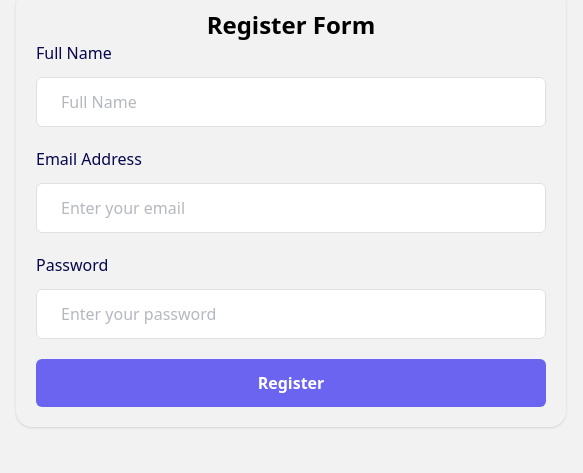
shows an error message for an empty submission
Click the button "Register" at (291,383), box 36,359 -> 546,407
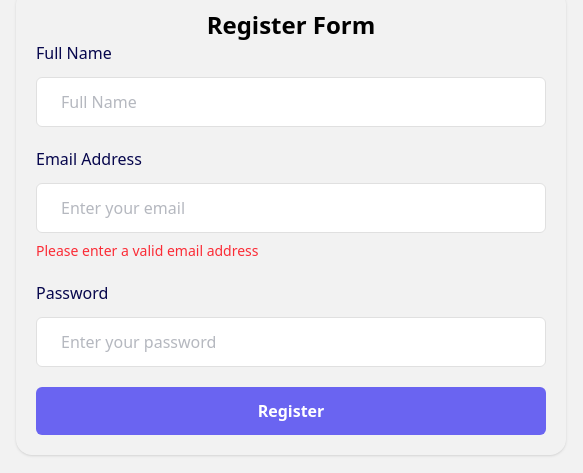
Result: the text "Please enter a valid email address" is shown at 36,241 -> 258,260
